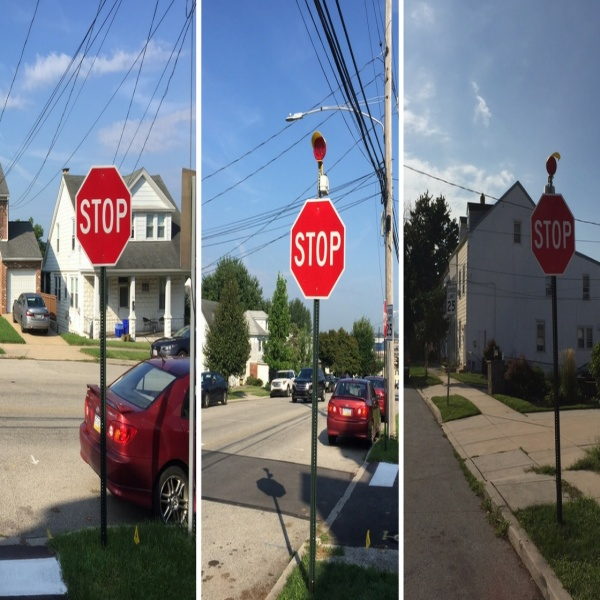stop: (283, 205, 343, 301), (81, 162, 130, 266), (528, 185, 573, 283)
